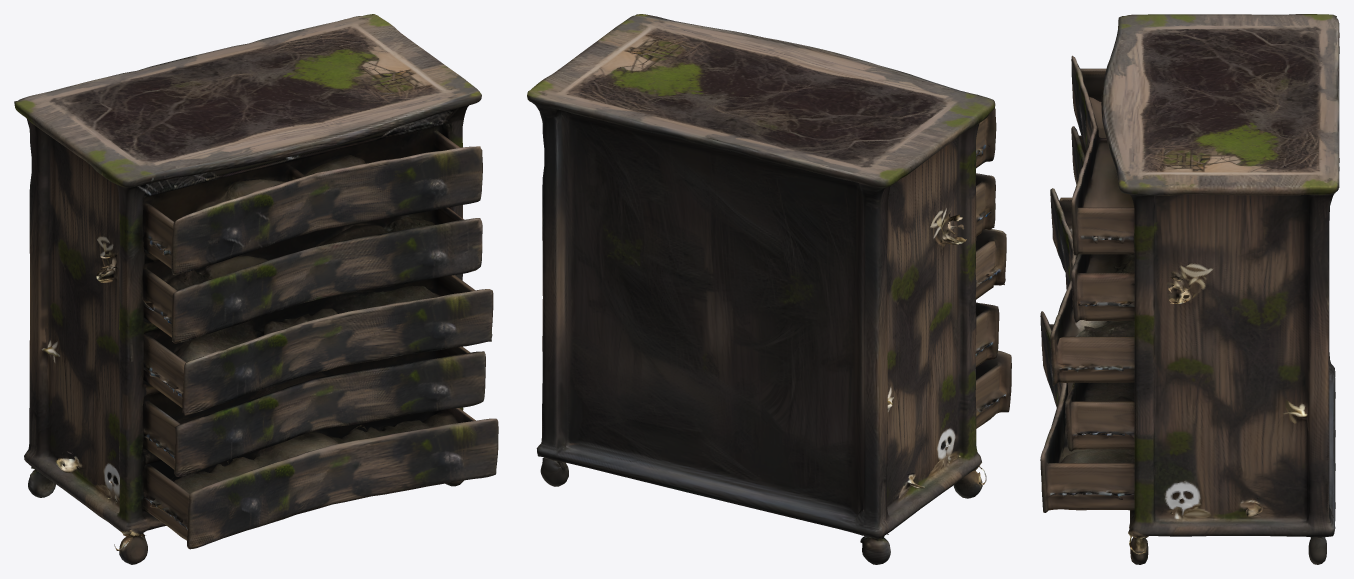
Rendered from base_basic_pbr.fbx.
The picture shows the model from 3 angles, left to right: view 1: azimuth 30°, elevation 25°; view 2: azimuth 150°, elevation 25°; view 3: azimuth 270°, elevation 25°; orthographic projection. The views are drawn at different scales.
Parts seen in each view (by area): view 1: model; view 2: model; view 3: model.
Boxes of the visible parts, <box> form: model: <box>14,14,498,564</box>; model: <box>527,14,1011,564</box>; model: <box>1040,14,1339,564</box>.
Size of the model in its own units: 171 by 177 by 124.
Materials: 1 (1 with a texture image).
